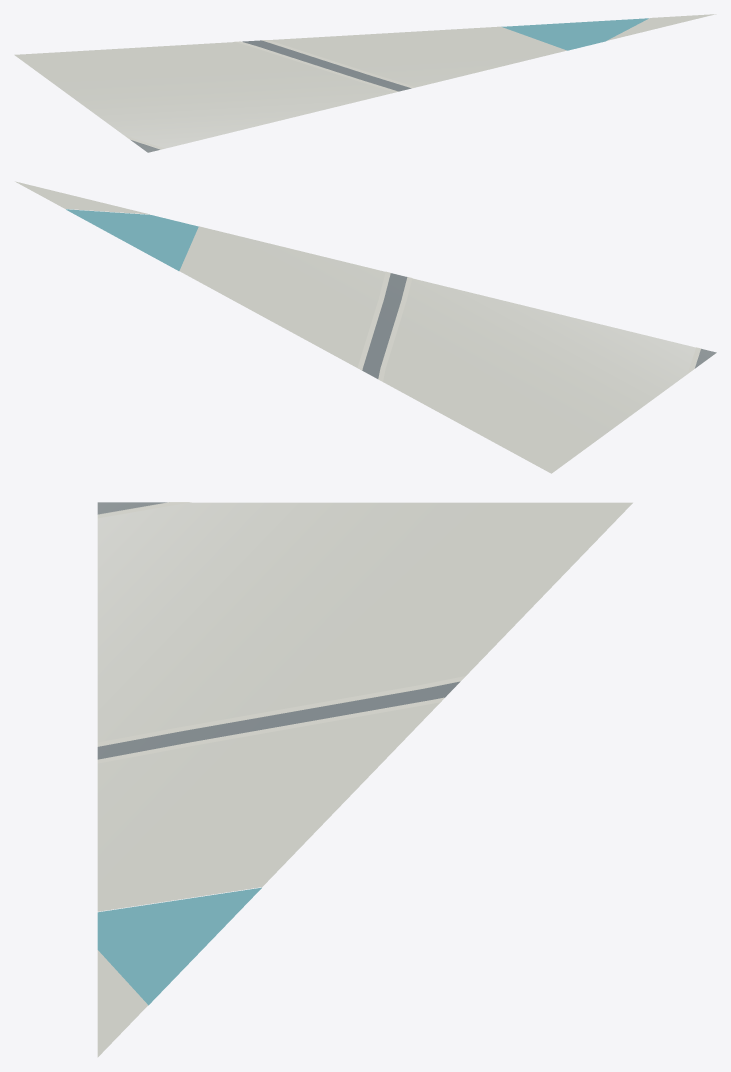
The picture shows the model from 3 angles, top to bottom: view 1: azimuth 30°, elevation 25°; view 2: azimuth 150°, elevation 25°; view 3: azimuth 270°, elevation 25°; orthographic projection. The views are drawn at different scales.
Parts seen in each view (by area): view 1: city; view 2: city; view 3: city.
Part boxes in pixels (bbox=[...]): city: bbox=[14, 14, 716, 152]; city: bbox=[15, 181, 716, 473]; city: bbox=[97, 502, 632, 1057].
Bounding box in the file's own units: 462 × 0.4 × 188.
